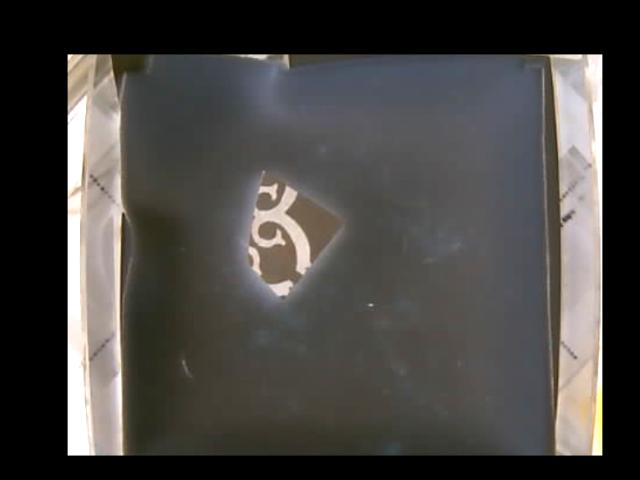China: (249, 169, 337, 300)
